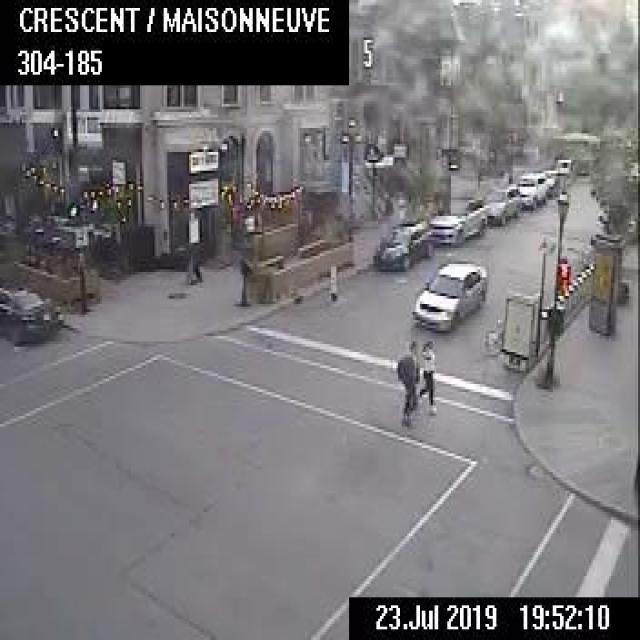pedestrian: (395, 338, 418, 424), (417, 338, 437, 413)
vehicle: (412, 260, 486, 331), (0, 282, 62, 346), (372, 216, 432, 270), (428, 193, 485, 244), (483, 184, 519, 222), (513, 170, 545, 208), (539, 167, 559, 195)
